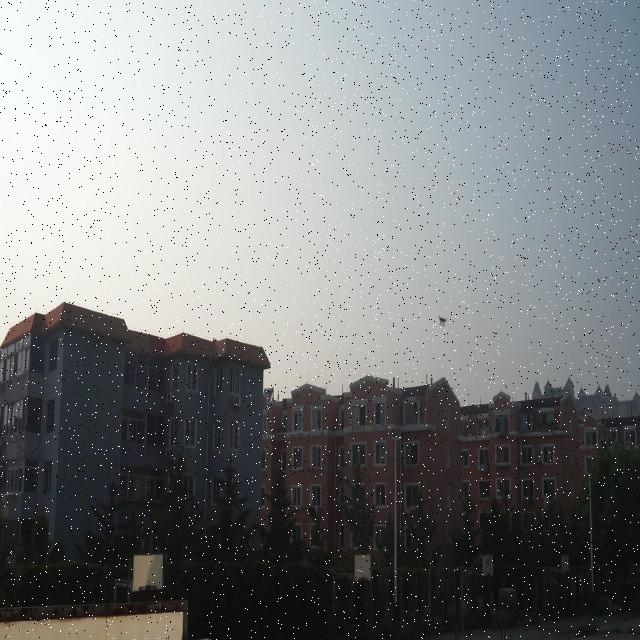UAV: (438, 316, 448, 327)
